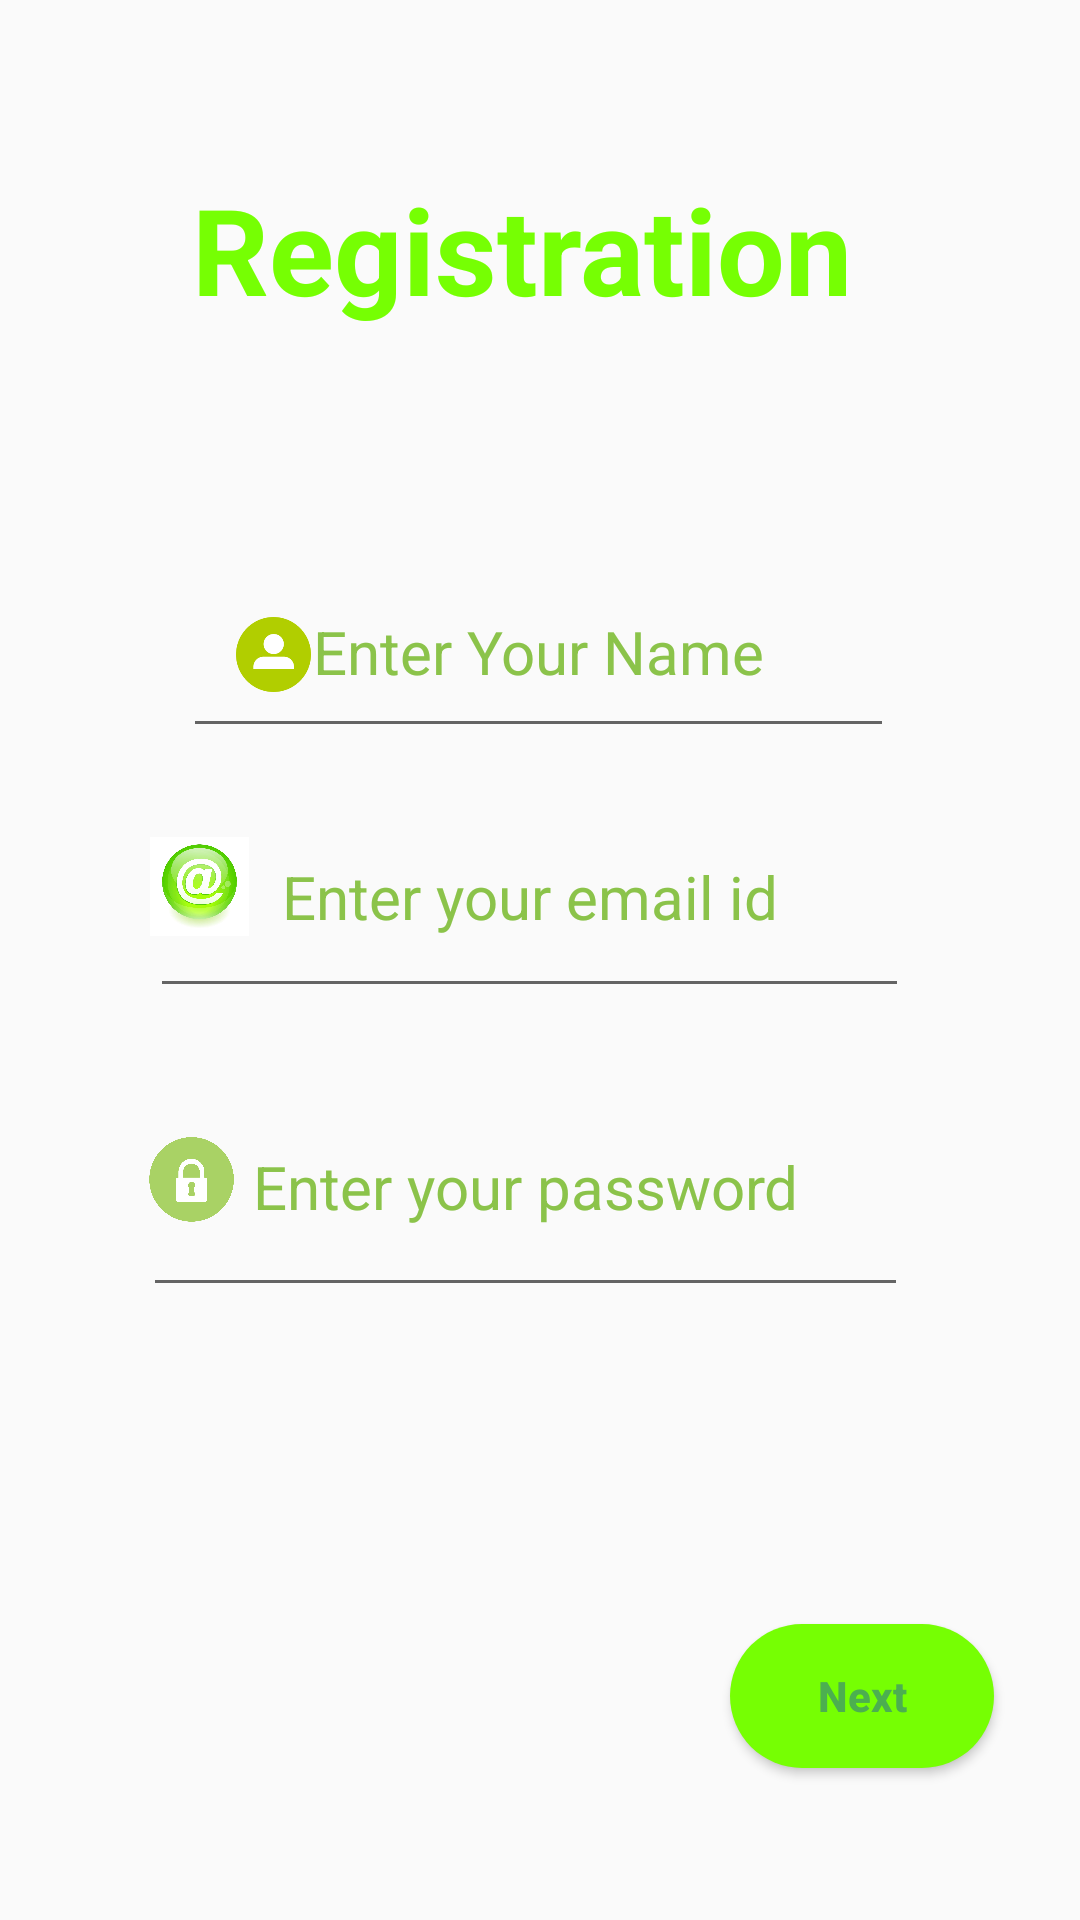

Icons on this 1080px×1920px Android screen, each with its box as (x1, y1, x2, y2):
greemail: (162, 844, 237, 926)
